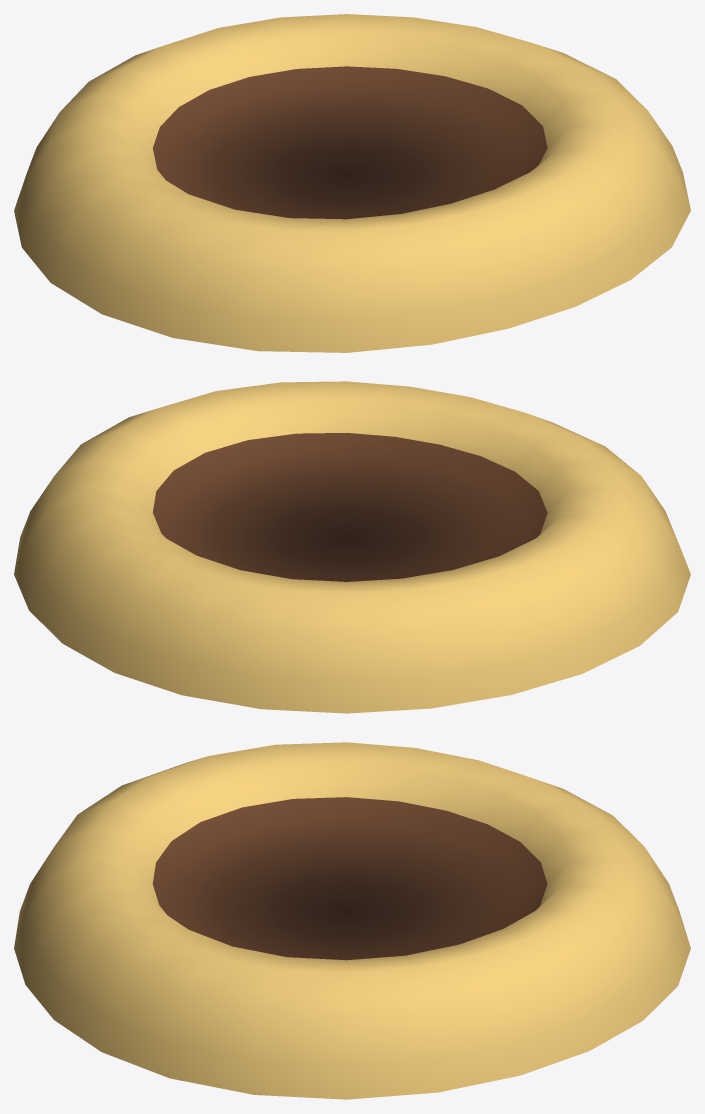
The model's file is hole_v2.glb.
3 renders of one model, top to bottom at view 1: azimuth 30°, elevation 25°; view 2: azimuth 150°, elevation 25°; view 3: azimuth 270°, elevation 25°, orthographic. The views are drawn at different scales.
Visible parts, largest first — view 1: hole_rim, hole_inner; view 2: hole_rim, hole_inner; view 3: hole_rim, hole_inner.
Part boxes in pixels (box(x1,y1,x2,y2)): hole_rim: box(14, 14, 690, 352); hole_inner: box(152, 66, 547, 219); hole_rim: box(14, 381, 690, 713); hole_inner: box(152, 433, 547, 581); hole_rim: box(14, 742, 690, 1099); hole_inner: box(152, 797, 547, 960).
Size of the model in its own units: 1.8 by 0.255 by 1.71.
